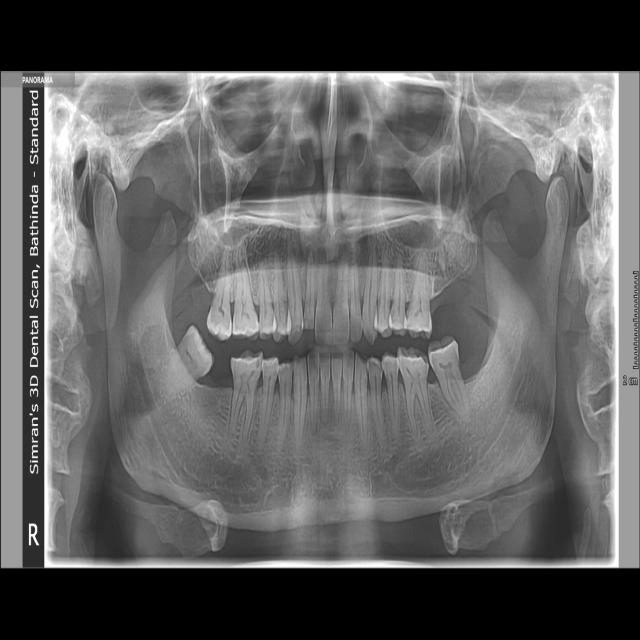Caries: (255, 354, 262, 367)
Mandibular Canal: (128, 340, 262, 505)
Missing teeth: (197, 354, 234, 387), (431, 285, 454, 325)
Periapical lesion: (318, 250, 339, 270), (304, 242, 315, 273)
maxillary sinus: (379, 105, 482, 254), (199, 109, 293, 247)
